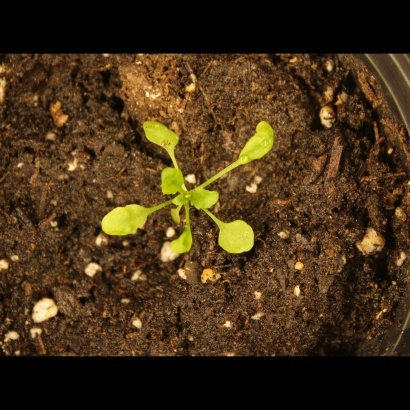leaf: (238, 116, 278, 170), (100, 202, 156, 239), (136, 114, 183, 155), (217, 217, 254, 260), (190, 184, 228, 217), (166, 223, 198, 261), (158, 164, 190, 201), (167, 204, 190, 227)
